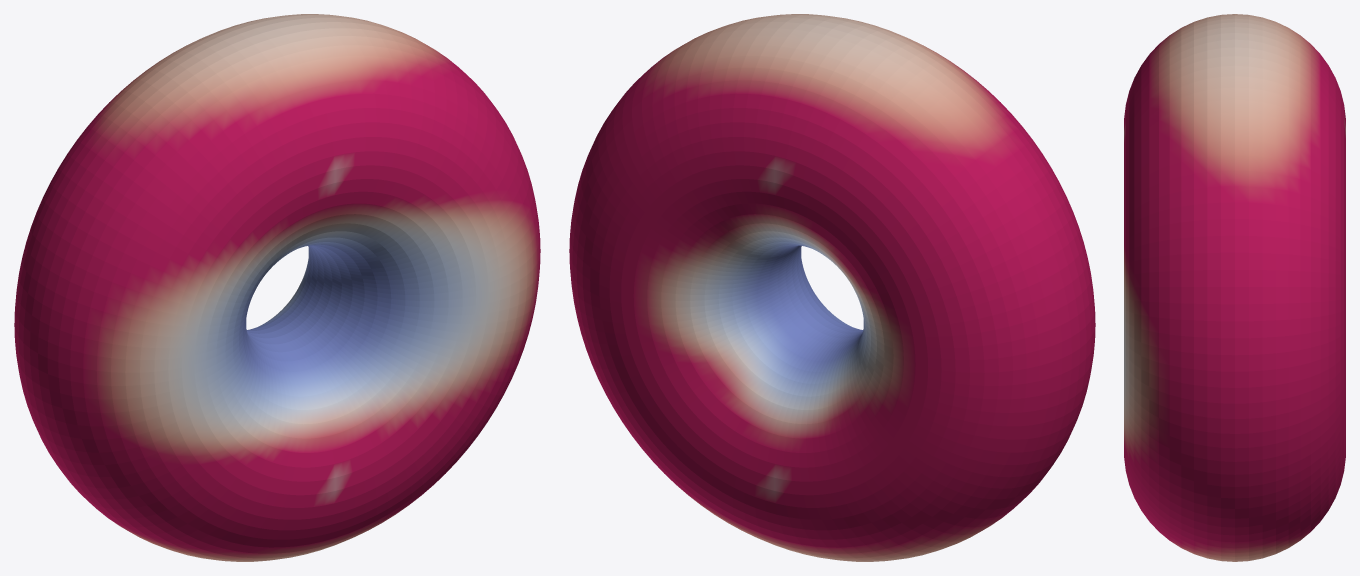
3 renders of one model, left to right at view 1: azimuth 30°, elevation 25°; view 2: azimuth 150°, elevation 25°; view 3: azimuth 270°, elevation 25°, orthographic. The views are drawn at different scales.
Visible parts, largest first — view 1: world; view 2: world; view 3: world.
Boxes of the visible parts, x1,y1,x2,y2 form: world: (14, 14, 540, 561); world: (569, 14, 1095, 561); world: (1124, 14, 1345, 561).
Bounding box in the file's own units: 24.67 × 24.67 × 9.98.
